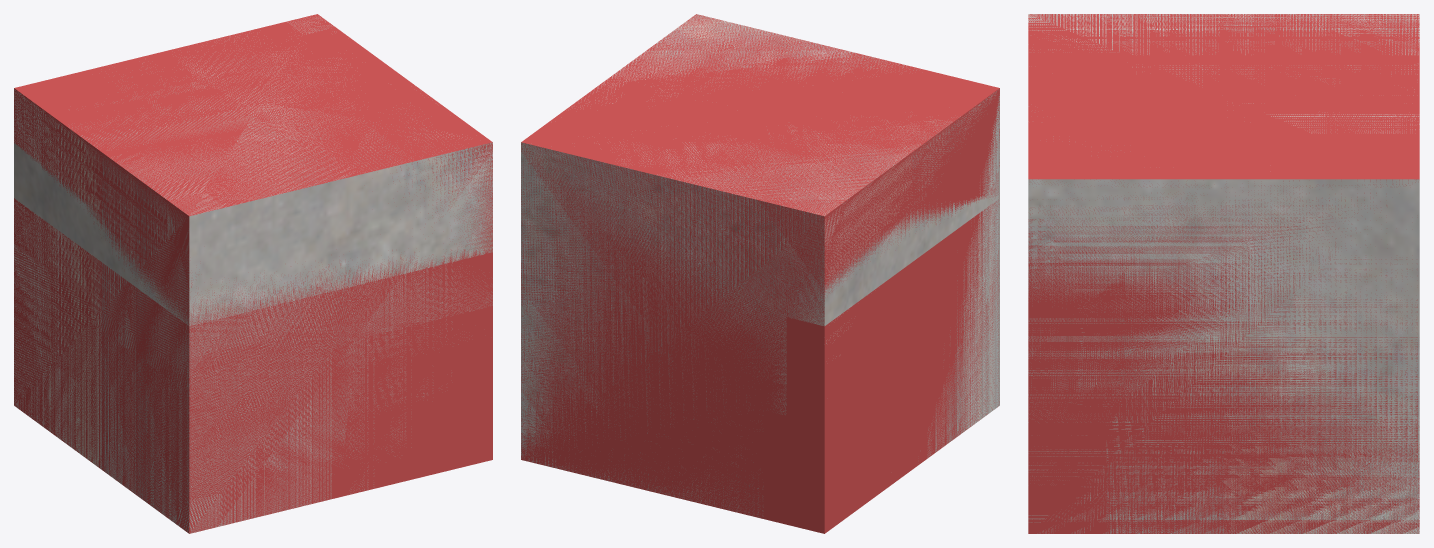
File: warehouse_wall_trim_corner_01.DAE
3 renders of one model, left to right at view 1: azimuth 30°, elevation 25°; view 2: azimuth 150°, elevation 25°; view 3: azimuth 270°, elevation 25°, orthographic. The views are drawn at different scales.
Visible parts, largest first — view 1: bounds, colbox-01, warehouse_wall_trim_01_corner01; view 2: bounds, warehouse_wall_trim_01_corner01, colbox-01; view 3: bounds, warehouse_wall_trim_01_corner01, colbox-01.
Part boxes in pixels (left/top/right/bottom): bounds: left=14, top=14, right=492, bottom=533; colbox-01: left=14, top=89, right=492, bottom=533; warehouse_wall_trim_01_corner01: left=14, top=17, right=492, bottom=325; bounds: left=521, top=14, right=999, bottom=533; warehouse_wall_trim_01_corner01: left=521, top=14, right=999, bottom=517; colbox-01: left=824, top=89, right=999, bottom=457; bounds: left=1028, top=14, right=1419, bottom=533; warehouse_wall_trim_01_corner01: left=1028, top=14, right=1419, bottom=533; colbox-01: left=1028, top=228, right=1419, bottom=533.
Bounding box in the file's own units: 80 × 80 × 80.
Materials: 3 (2 with a texture image).
